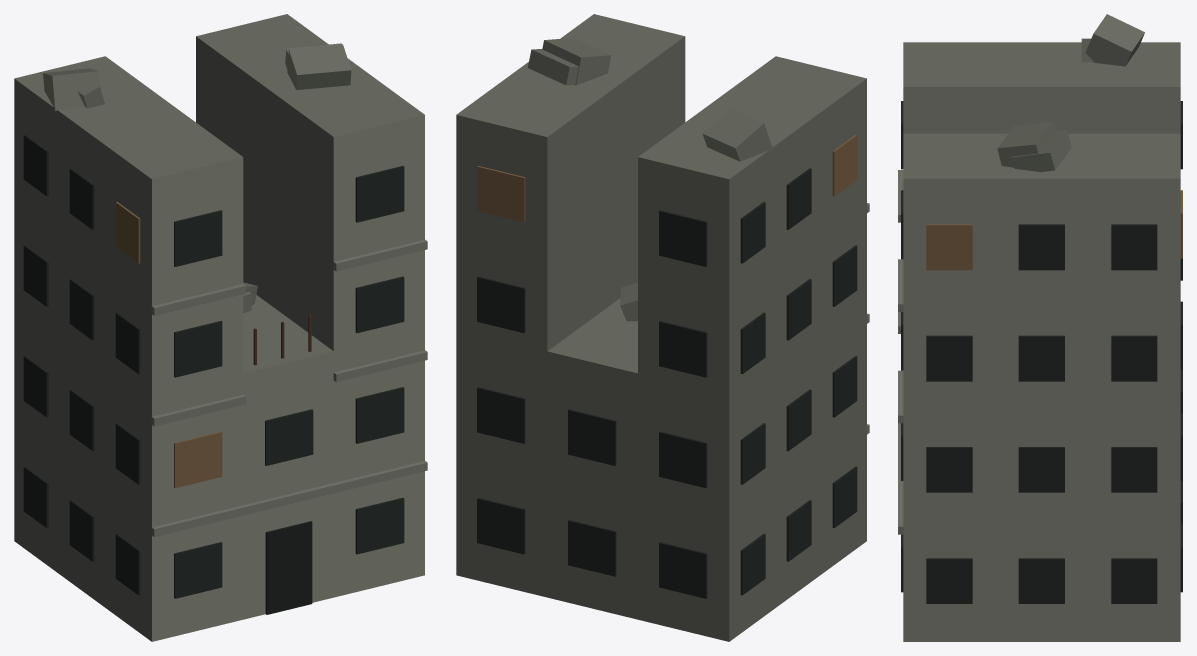
File: ct_ruin_a.glb
3 renders of one model, left to right at view 1: azimuth 30°, elevation 25°; view 2: azimuth 150°, elevation 25°; view 3: azimuth 270°, elevation 25°, orthographic.
Parts seen in each view (by area): view 1: ct_ruin_a; view 2: ct_ruin_a; view 3: ct_ruin_a.
Part boxes in pixels (x1=…): ct_ruin_a: x1=14, y1=14, x2=427, y2=641; ct_ruin_a: x1=456, y1=14, x2=869, y2=641; ct_ruin_a: x1=898, y1=14, x2=1182, y2=641.
Bounding box in the file's own units: 8.12 × 13.78 × 7.19.
